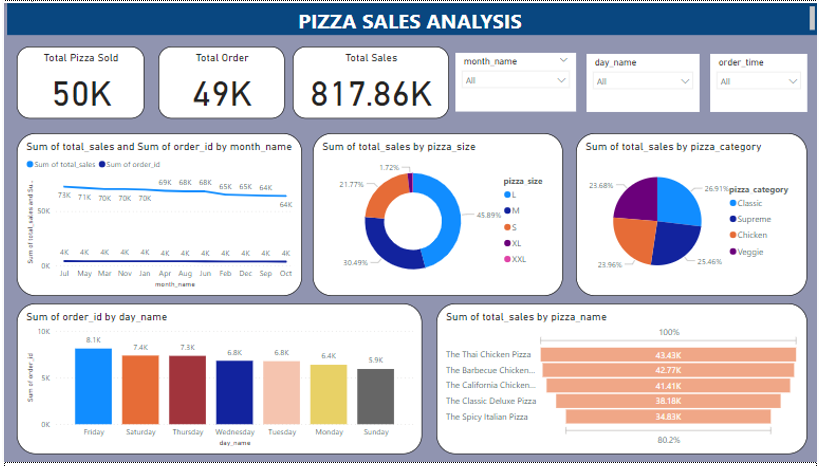

Layout of this report page (visuals, bound fields, positions):
{"tool":"powerbi","page":{"name":"Page 1","canvas":[1280,720],"ordinal":0},"visuals":[{"type":"textbox","box":[10.1,0,1269.9,50.4],"z":0},{"type":"card","title":"Total Order","fields":{"Values":["Sum(export.order_id)"]},"box":[246.9,67.2,198.2,112.5],"z":1000},{"type":"card","title":"Total Sales","fields":{"Values":["Sum(export.total_sales)"]},"box":[457.8,67.3,244.5,113.2],"z":2000},{"type":"card","title":"Total Pizza Sold","fields":{"Values":["Sum(export.Total Pizzza Sold)"]},"box":[25.2,67.2,199.9,112.5],"z":3000},{"type":"lineChart","fields":{"Y":["Sum(export.total_sales)","Sum(export.order_id)"],"Category":["export.month_name"]},"box":[25.1,204.4,447.3,254.7],"z":4000},{"type":"columnChart","fields":{"Category":["export.day_name"],"Y":["Sum(export.order_id)"]},"box":[25.1,470.8,635,236.2],"z":5000},{"type":"donutChart","fields":{"Category":["export.pizza_size"],"Y":["Sum(export.total_sales)"]},"box":[489.2,204.4,392,254.7],"z":5001},{"type":"pieChart","fields":{"Category":["export.pizza_category"],"Y":["Sum(export.total_sales)"]},"box":[901.4,204.4,361.9,254.7],"z":5002},{"type":"funnel","fields":{"Category":["export.pizza_name"],"Y":["Sum(export.total_sales)"]},"box":[681.9,470.8,581.4,236.2],"z":5003},{"type":"slicer","fields":{"Values":["export.month_name"]},"box":[712.2,77.1,188.7,91.9],"z":5004},{"type":"slicer","fields":{"Values":["export.day_name"]},"box":[917.4,79.5,177.2,91.1],"z":5005},{"type":"slicer","fields":{"Values":["export.order_time"]},"box":[1111.1,79.5,152.3,91.1],"z":5006}]}

Visuals, with their boxes in screenshot pixels (x1, y1, x2, y2), scaled from the page's 1280x720 canvas onto the 820x467 screenshot:
textbox: locate(6, 0, 819, 33)
"Total Order" card: locate(158, 44, 285, 117)
"Total Sales" card: locate(293, 44, 450, 117)
"Total Pizza Sold" card: locate(16, 44, 144, 117)
lineChart - Sum(export.total_sales) x Sum(export.order_id): locate(16, 133, 303, 298)
columnChart - export.day_name x Sum(export.order_id): locate(16, 305, 423, 459)
donutChart - export.pizza_size x Sum(export.total_sales): locate(313, 133, 565, 298)
pieChart - export.pizza_category x Sum(export.total_sales): locate(577, 133, 809, 298)
funnel - export.pizza_name x Sum(export.total_sales): locate(437, 305, 809, 459)
slicer - export.month_name: locate(456, 50, 577, 110)
slicer - export.day_name: locate(588, 52, 701, 111)
slicer - export.order_time: locate(712, 52, 809, 111)
